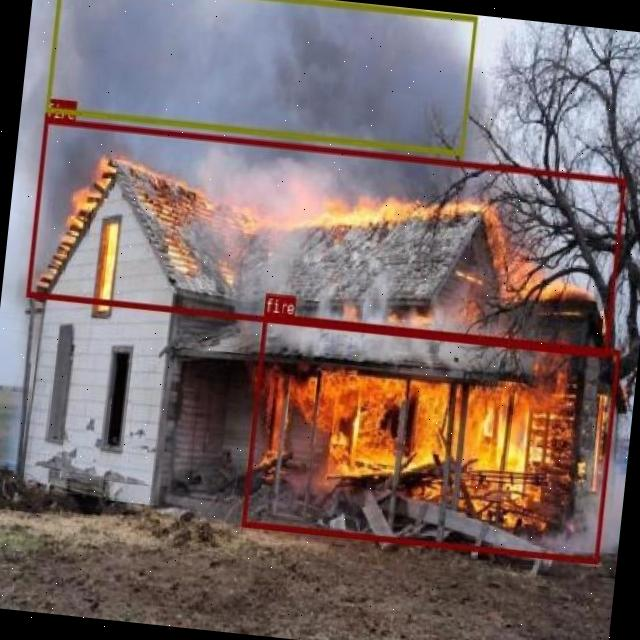fire: (25, 116, 626, 356), (242, 312, 618, 562)
smoke: (45, 0, 476, 155)
